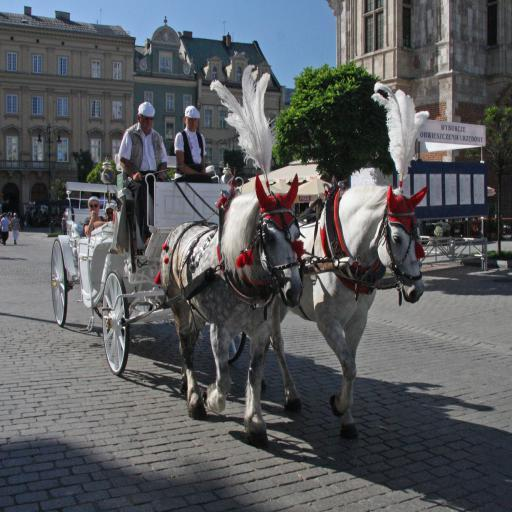Horse: (261, 182, 429, 441), (159, 172, 304, 452)
